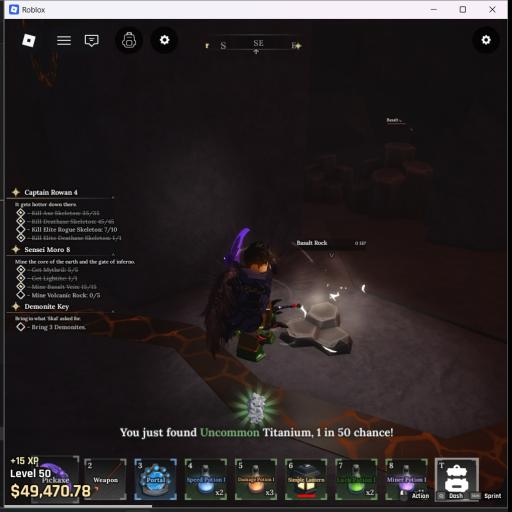player: (202, 242, 286, 355), (237, 343, 264, 361)
rock: (362, 143, 433, 219), (280, 302, 352, 356), (303, 154, 353, 204)
